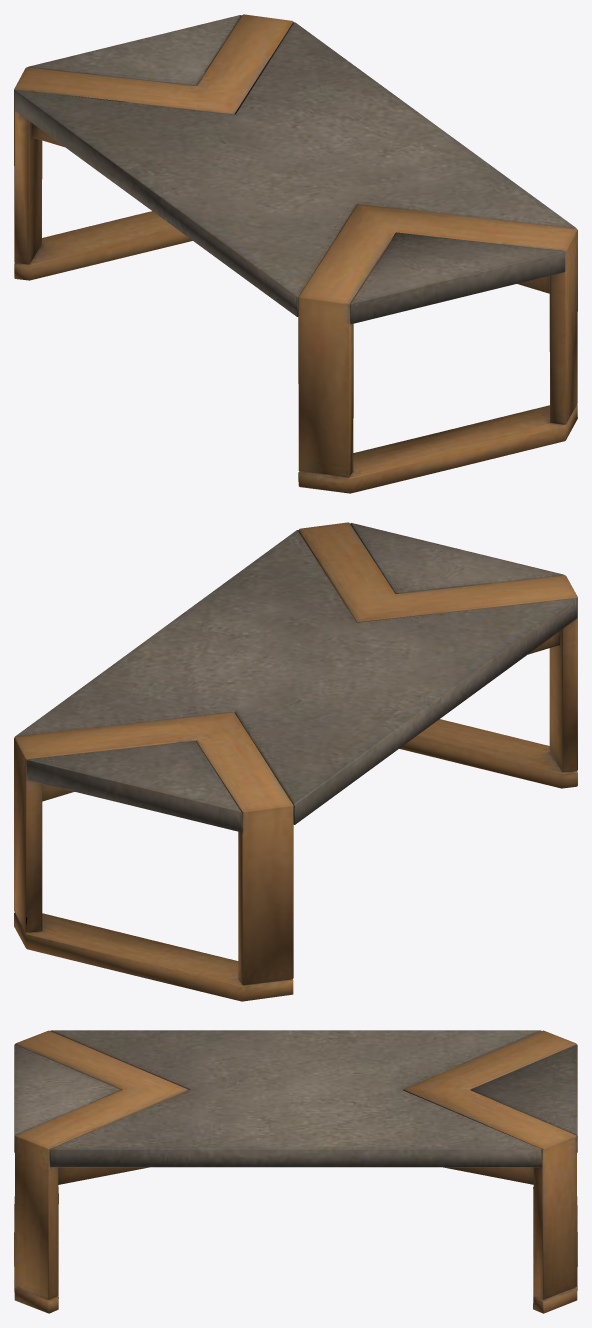
The model's file is coffeetable.glb.
3 renders of one model, top to bottom at view 1: azimuth 30°, elevation 25°; view 2: azimuth 150°, elevation 25°; view 3: azimuth 270°, elevation 25°, orthographic. The views are drawn at different scales.
Visible parts, largest first — view 1: lo; view 2: lo; view 3: lo.
Part boxes in pixels (x1,y1,x2,y2): lo: (14,14,577,493); lo: (14,522,577,1001); lo: (14,1030,577,1313).
Bounding box in the file's own units: 0.5996 × 0.3899 × 1.2.
Materials: 1 (1 with a texture image).
